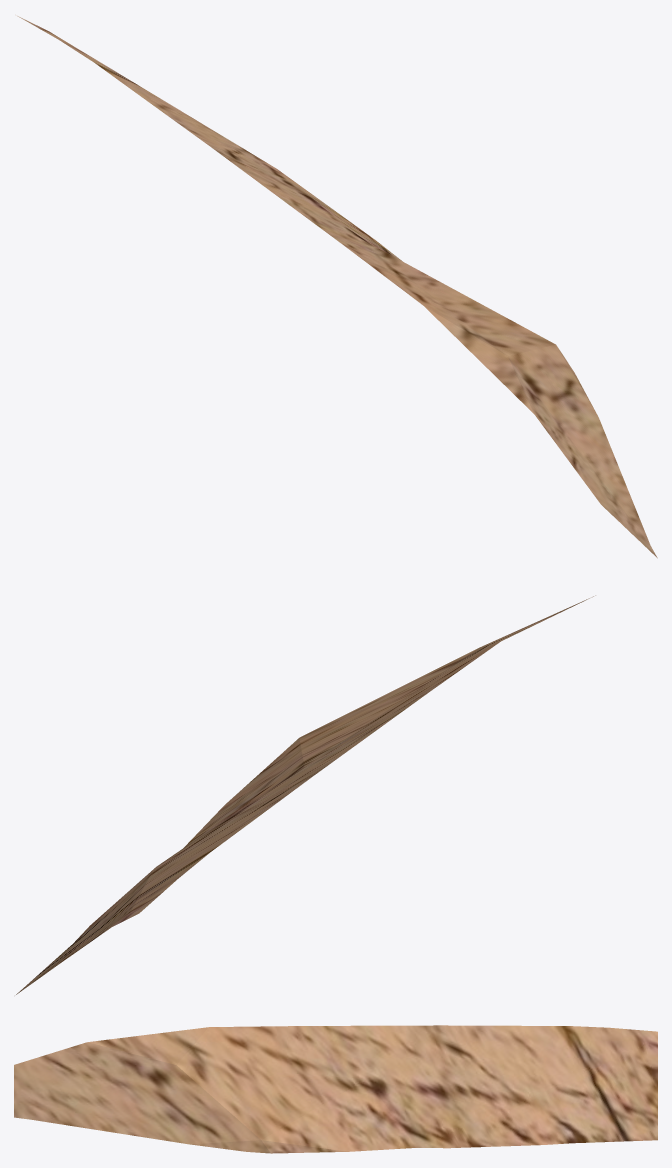
3 renders of one model, top to bottom at view 1: azimuth 30°, elevation 25°; view 2: azimuth 150°, elevation 25°; view 3: azimuth 270°, elevation 25°, orthographic. The views are drawn at different scales.
Size of the model in its own units: 0.1967 by 0.1375 by 1.04.
1 material, 1 textured.
